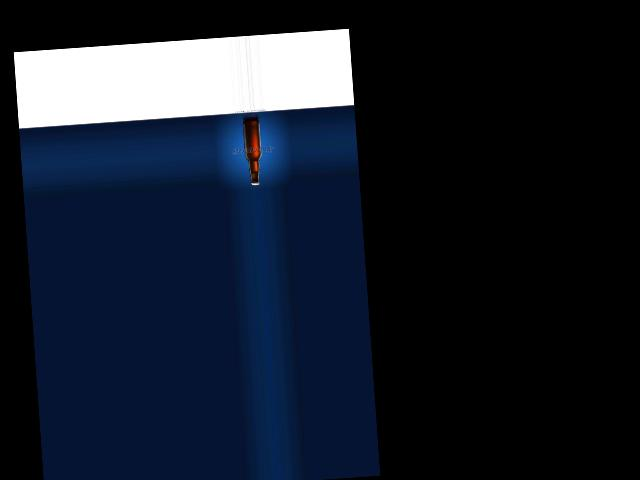beer: (242, 119, 263, 186)
